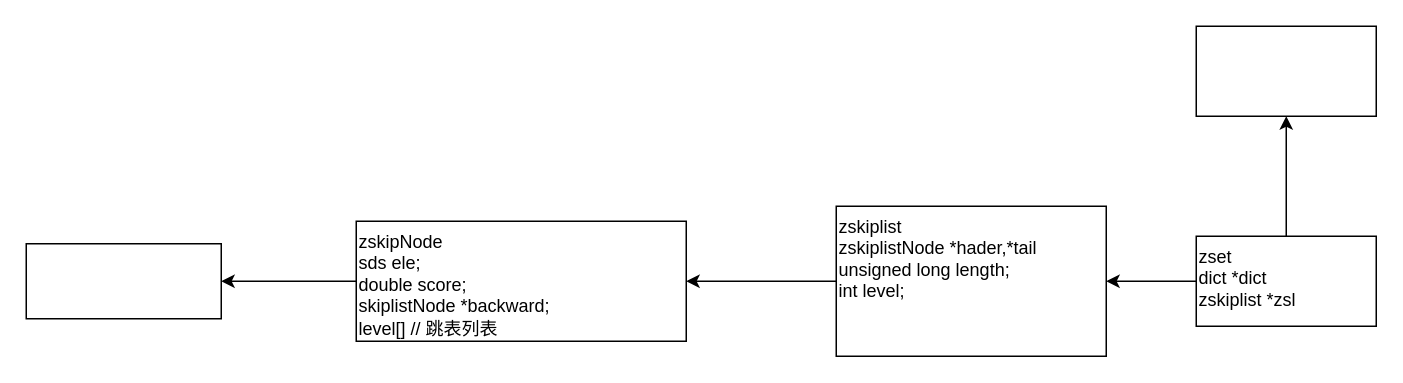
Some shapes in this 1403 by 383 pixel diagram are drawn without their labels. Each missing label, with the centre of its shape:
dict: [1285,70]
zskiplistLevel zskiplistNode* forward unsigned long span: [123,280]
